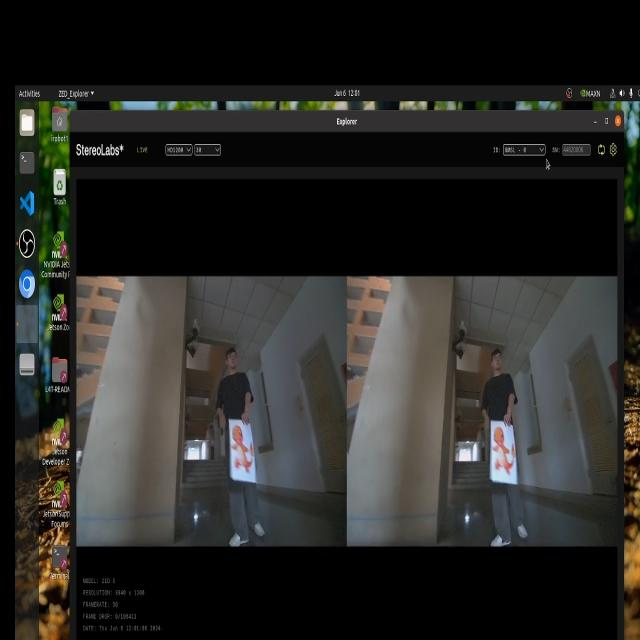red: (223, 422, 260, 490), (494, 421, 520, 483)
